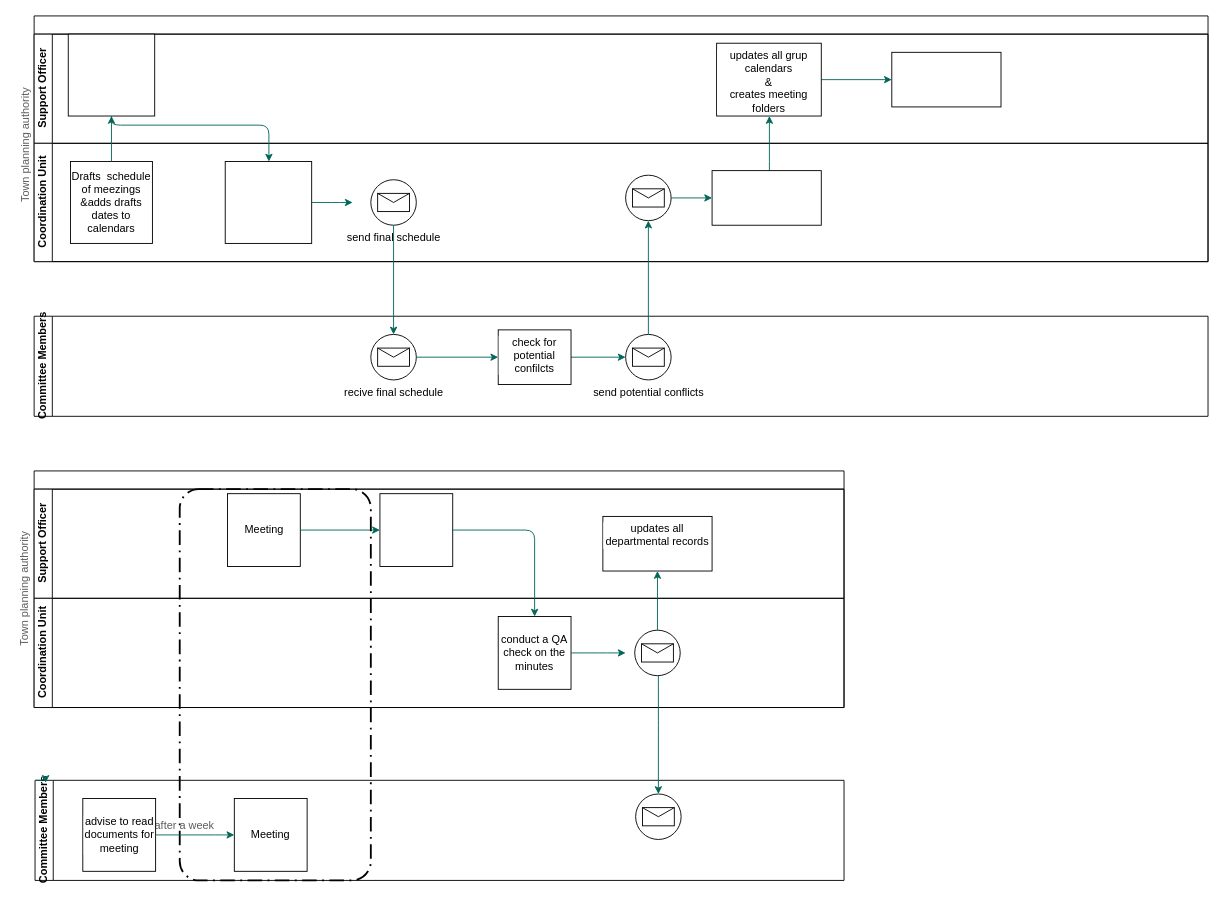
The diagram is 1224 pixels wide and 900 high, and some of its shapes have lost their labels. Here are the shapes that lost their labels. From the top down, the box of each, then its label:
(67, 33, 155, 116): checks dates & suggests modifications
(891, 51, 1001, 107): uploades documents to system
(224, 161, 312, 243): rechecks dates & looks for potential conflicts
(625, 174, 671, 221): recive potential conflics
(711, 170, 821, 225): dates are finaliized
(379, 493, 453, 566): produces minuted
(634, 629, 680, 676): send minutes
(635, 793, 681, 839): recive minutes
